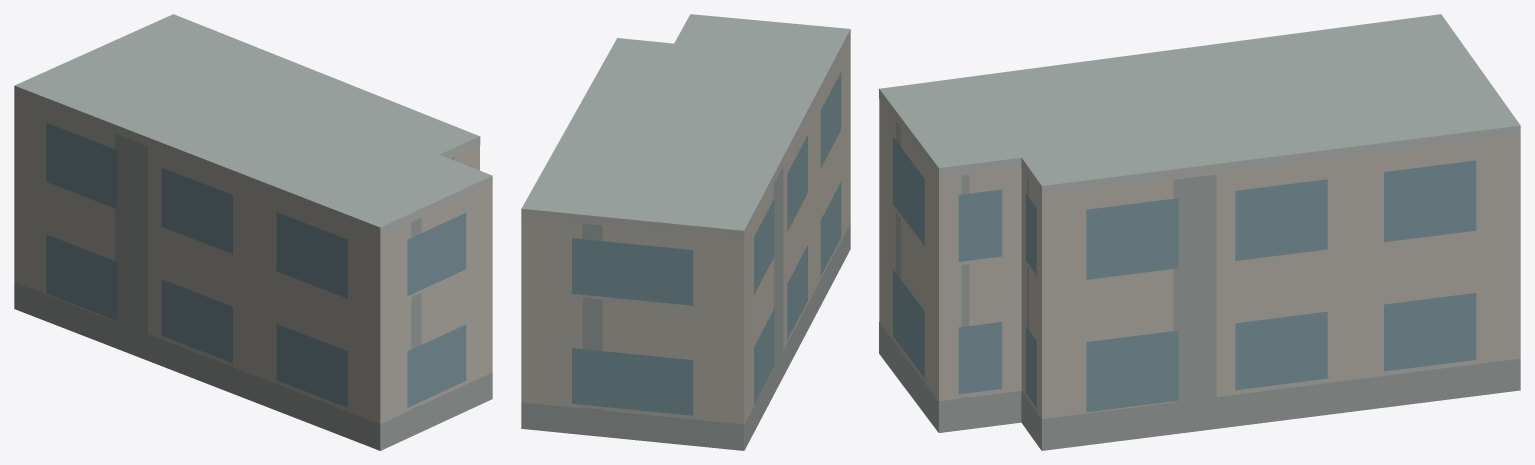
Rendered from residential-26eb0af9-6521-4175-944d-202a9fc51a69.glb.
The picture shows the model from 3 angles, left to right: view 1: azimuth 30°, elevation 25°; view 2: azimuth 150°, elevation 25°; view 3: azimuth 270°, elevation 25°; orthographic projection. The views are drawn at different scales.
Visible parts, largest first — view 1: residential-26eb0af9-6521-4175-944d-202a9fc51a69.tmp; view 2: residential-26eb0af9-6521-4175-944d-202a9fc51a69.tmp; view 3: residential-26eb0af9-6521-4175-944d-202a9fc51a69.tmp.
Part boxes in pixels (x1,y1,x2,y2): residential-26eb0af9-6521-4175-944d-202a9fc51a69.tmp: (14, 14, 492, 450); residential-26eb0af9-6521-4175-944d-202a9fc51a69.tmp: (521, 14, 850, 450); residential-26eb0af9-6521-4175-944d-202a9fc51a69.tmp: (879, 14, 1520, 450).
Bounding box in the file's own units: 8.51 × 6.1 × 13.4.
